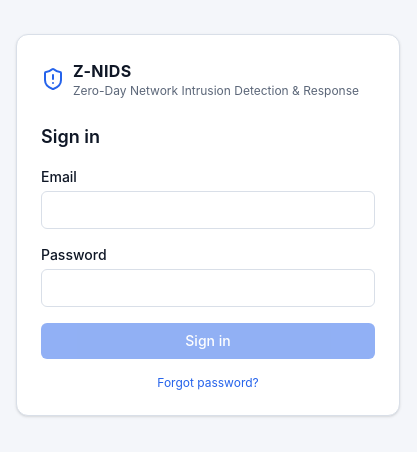
authentication › shows the server's error on failed sign-in
Type "a@b.test" into the field labelled "Email".
click(208, 210); type("a@b.test")  # box [41, 191, 375, 229]
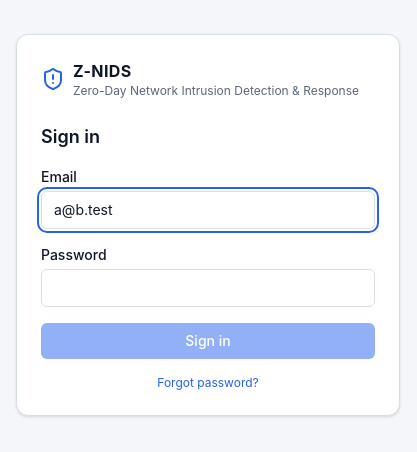
Type "wrong-password" into the password field labelled "Password".
click(208, 288); type("wrong-password")  # box [41, 269, 375, 307]
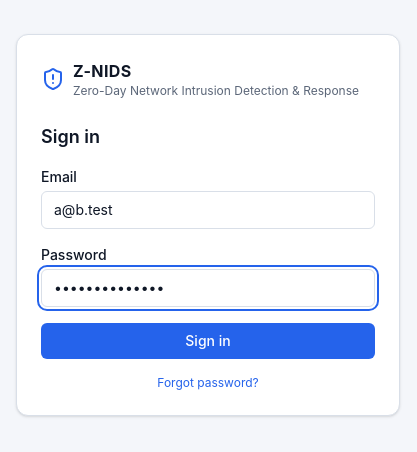
Click the button "Sign in".
click(208, 341)  # box [41, 323, 375, 359]
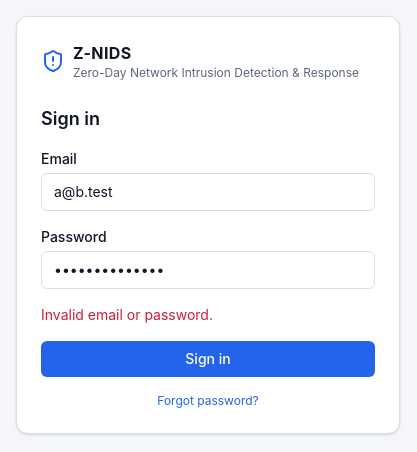
Check: the message reads "Invalid email or password.", box [41, 306, 213, 323]
